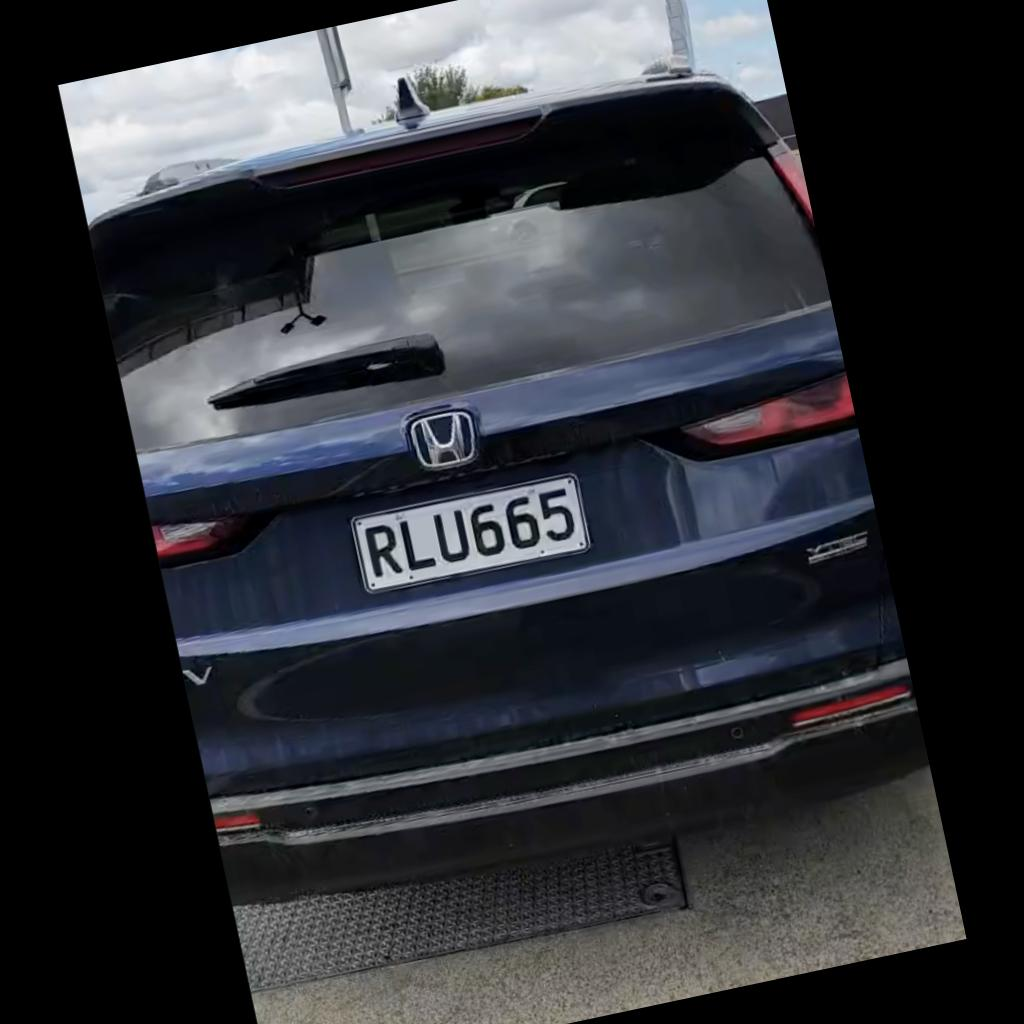Number-Plates: (354, 475, 593, 600)
